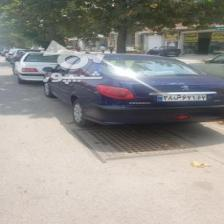plate: (155, 92, 207, 102)
